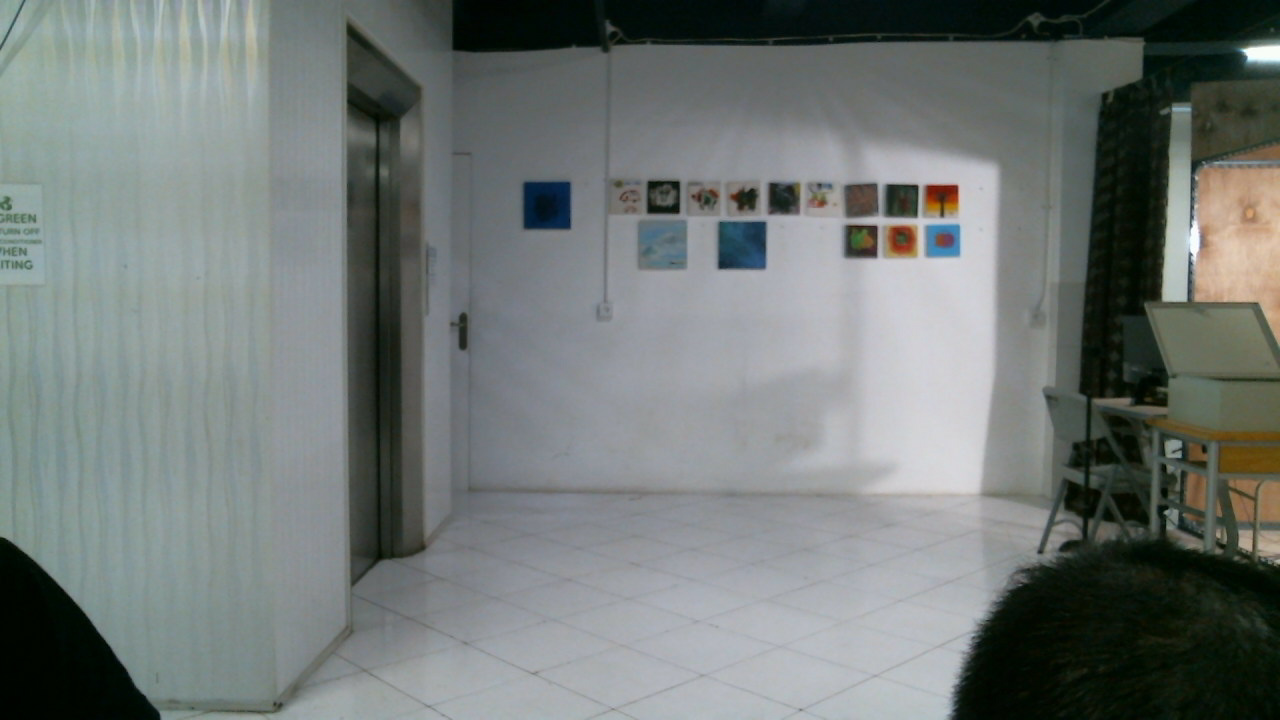bg: (101, 20, 1072, 550)
